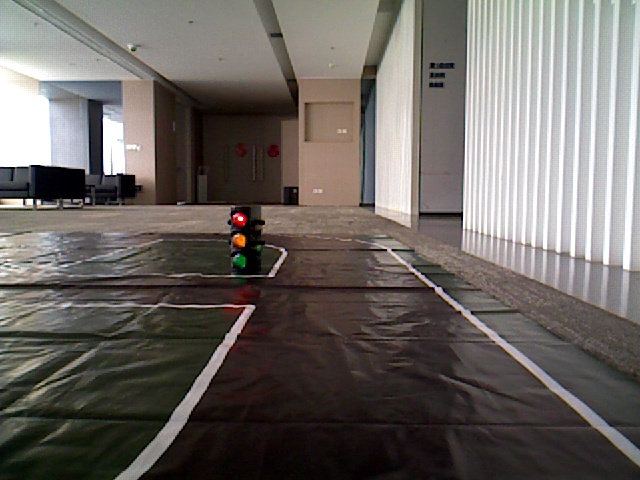red: (229, 210, 253, 269)
